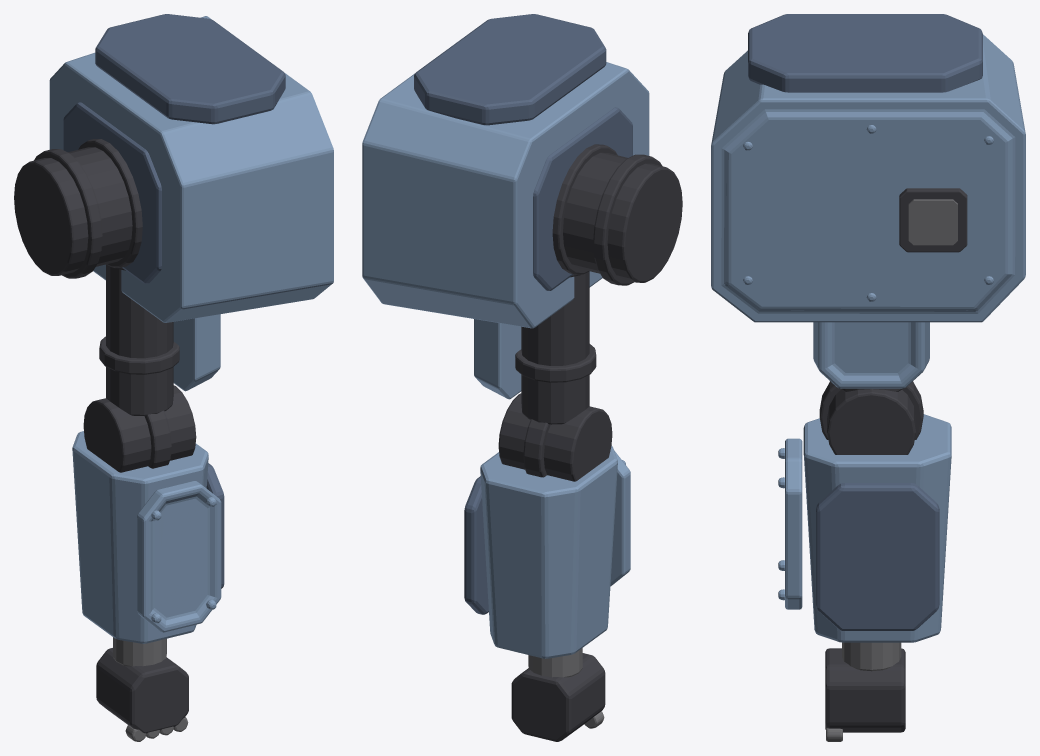
File: recon_accurate_arm_l.glb
3 renders of one model, left to right at view 1: azimuth 30°, elevation 25°; view 2: azimuth 150°, elevation 25°; view 3: azimuth 270°, elevation 25°, orthographic. The views are drawn at different scales.
Parts seen in each view (by area): view 1: PauldronL, PauldronTopL, ShoulderJointL, ForearmL, ForearmFrontL, UpperArmFrameL, ElbowL, FistL, PauldronInnerL, UpperArmL, WristL, ForearmOuterL; view 2: PauldronL, ForearmL, PauldronTopL, ShoulderJointL, UpperArmFrameL, ElbowL, FistL, PauldronInnerL, UpperArmL, ForearmOuterL, ForearmFrontL, WristL; view 3: PauldronL, PauldronTopL, ForearmOuterL, ForearmL, UpperArmL, ElbowL, FistL, ForearmFrontL, PauldronVentInL, PauldronVentL, WristL.
Boxes of the visible parts, x1,y1,x2,y2 form: PauldronL: (49, 16, 333, 322); PauldronTopL: (95, 14, 285, 124); ShoulderJointL: (14, 139, 142, 278); ForearmL: (72, 431, 208, 643); ForearmFrontL: (137, 481, 221, 632); UpperArmFrameL: (99, 264, 179, 415); ElbowL: (83, 385, 196, 472); FistL: (96, 648, 188, 733); PauldronInnerL: (63, 102, 161, 283); UpperArmL: (173, 314, 220, 391); WristL: (113, 637, 166, 666); ForearmOuterL: (206, 463, 224, 588); PauldronL: (362, 62, 649, 328); ForearmL: (480, 446, 617, 658); PauldronTopL: (414, 14, 606, 125); ShoulderJointL: (552, 144, 682, 285); UpperArmFrameL: (515, 271, 596, 424); ElbowL: (498, 393, 612, 481); FistL: (511, 653, 605, 741); PauldronInnerL: (533, 107, 632, 290); UpperArmL: (474, 319, 521, 399); ForearmOuterL: (464, 476, 488, 614); ForearmFrontL: (610, 450, 630, 586); WristL: (528, 648, 582, 677); PauldronL: (711, 34, 1025, 322); PauldronTopL: (748, 14, 982, 92); ForearmOuterL: (816, 483, 939, 630); ForearmL: (803, 414, 951, 642); UpperArmL: (813, 322, 929, 388); ElbowL: (819, 381, 923, 454); FistL: (825, 648, 905, 732); ForearmFrontL: (778, 438, 802, 609); PauldronVentInL: (908, 199, 957, 245); PauldronVentL: (899, 188, 967, 252); WristL: (842, 642, 901, 671).
Size of the model in its own units: 2.33 by 6.36 by 2.55.
